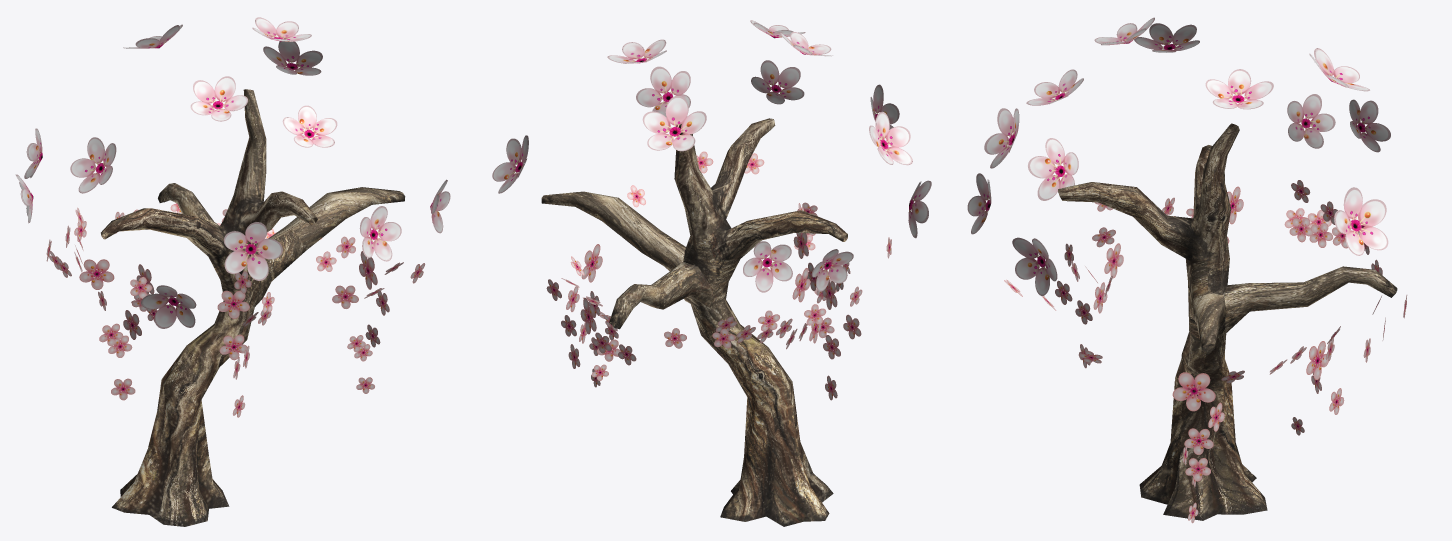
File: CherryTree.fbx
3 views of the same model, side by side, from view 1: azimuth 30°, elevation 25°; view 2: azimuth 150°, elevation 25°; view 3: azimuth 270°, elevation 25° (orthographic). The views are drawn at different scales.
Parts seen in each view (by area): view 1: Trunk, BlossomBig2, BlossomChains; view 2: Trunk, BlossomBig2, BlossomChains; view 3: Trunk, BlossomBig2, BlossomChains.
Boxes of the visible parts, x1,y1,x2,y2 form: Trunk: [101, 89, 405, 526]; BlossomBig2: [15, 17, 450, 328]; BlossomChains: [46, 203, 425, 417]; Trunk: [541, 118, 847, 526]; BlossomBig2: [492, 20, 931, 292]; BlossomChains: [546, 151, 891, 400]; Trunk: [1058, 123, 1397, 520]; BlossomBig2: [967, 17, 1390, 295]; BlossomChains: [1004, 180, 1407, 523].
Bounding box in the file's own units: 522 × 594 × 526.
6 materials, 6 textured.
